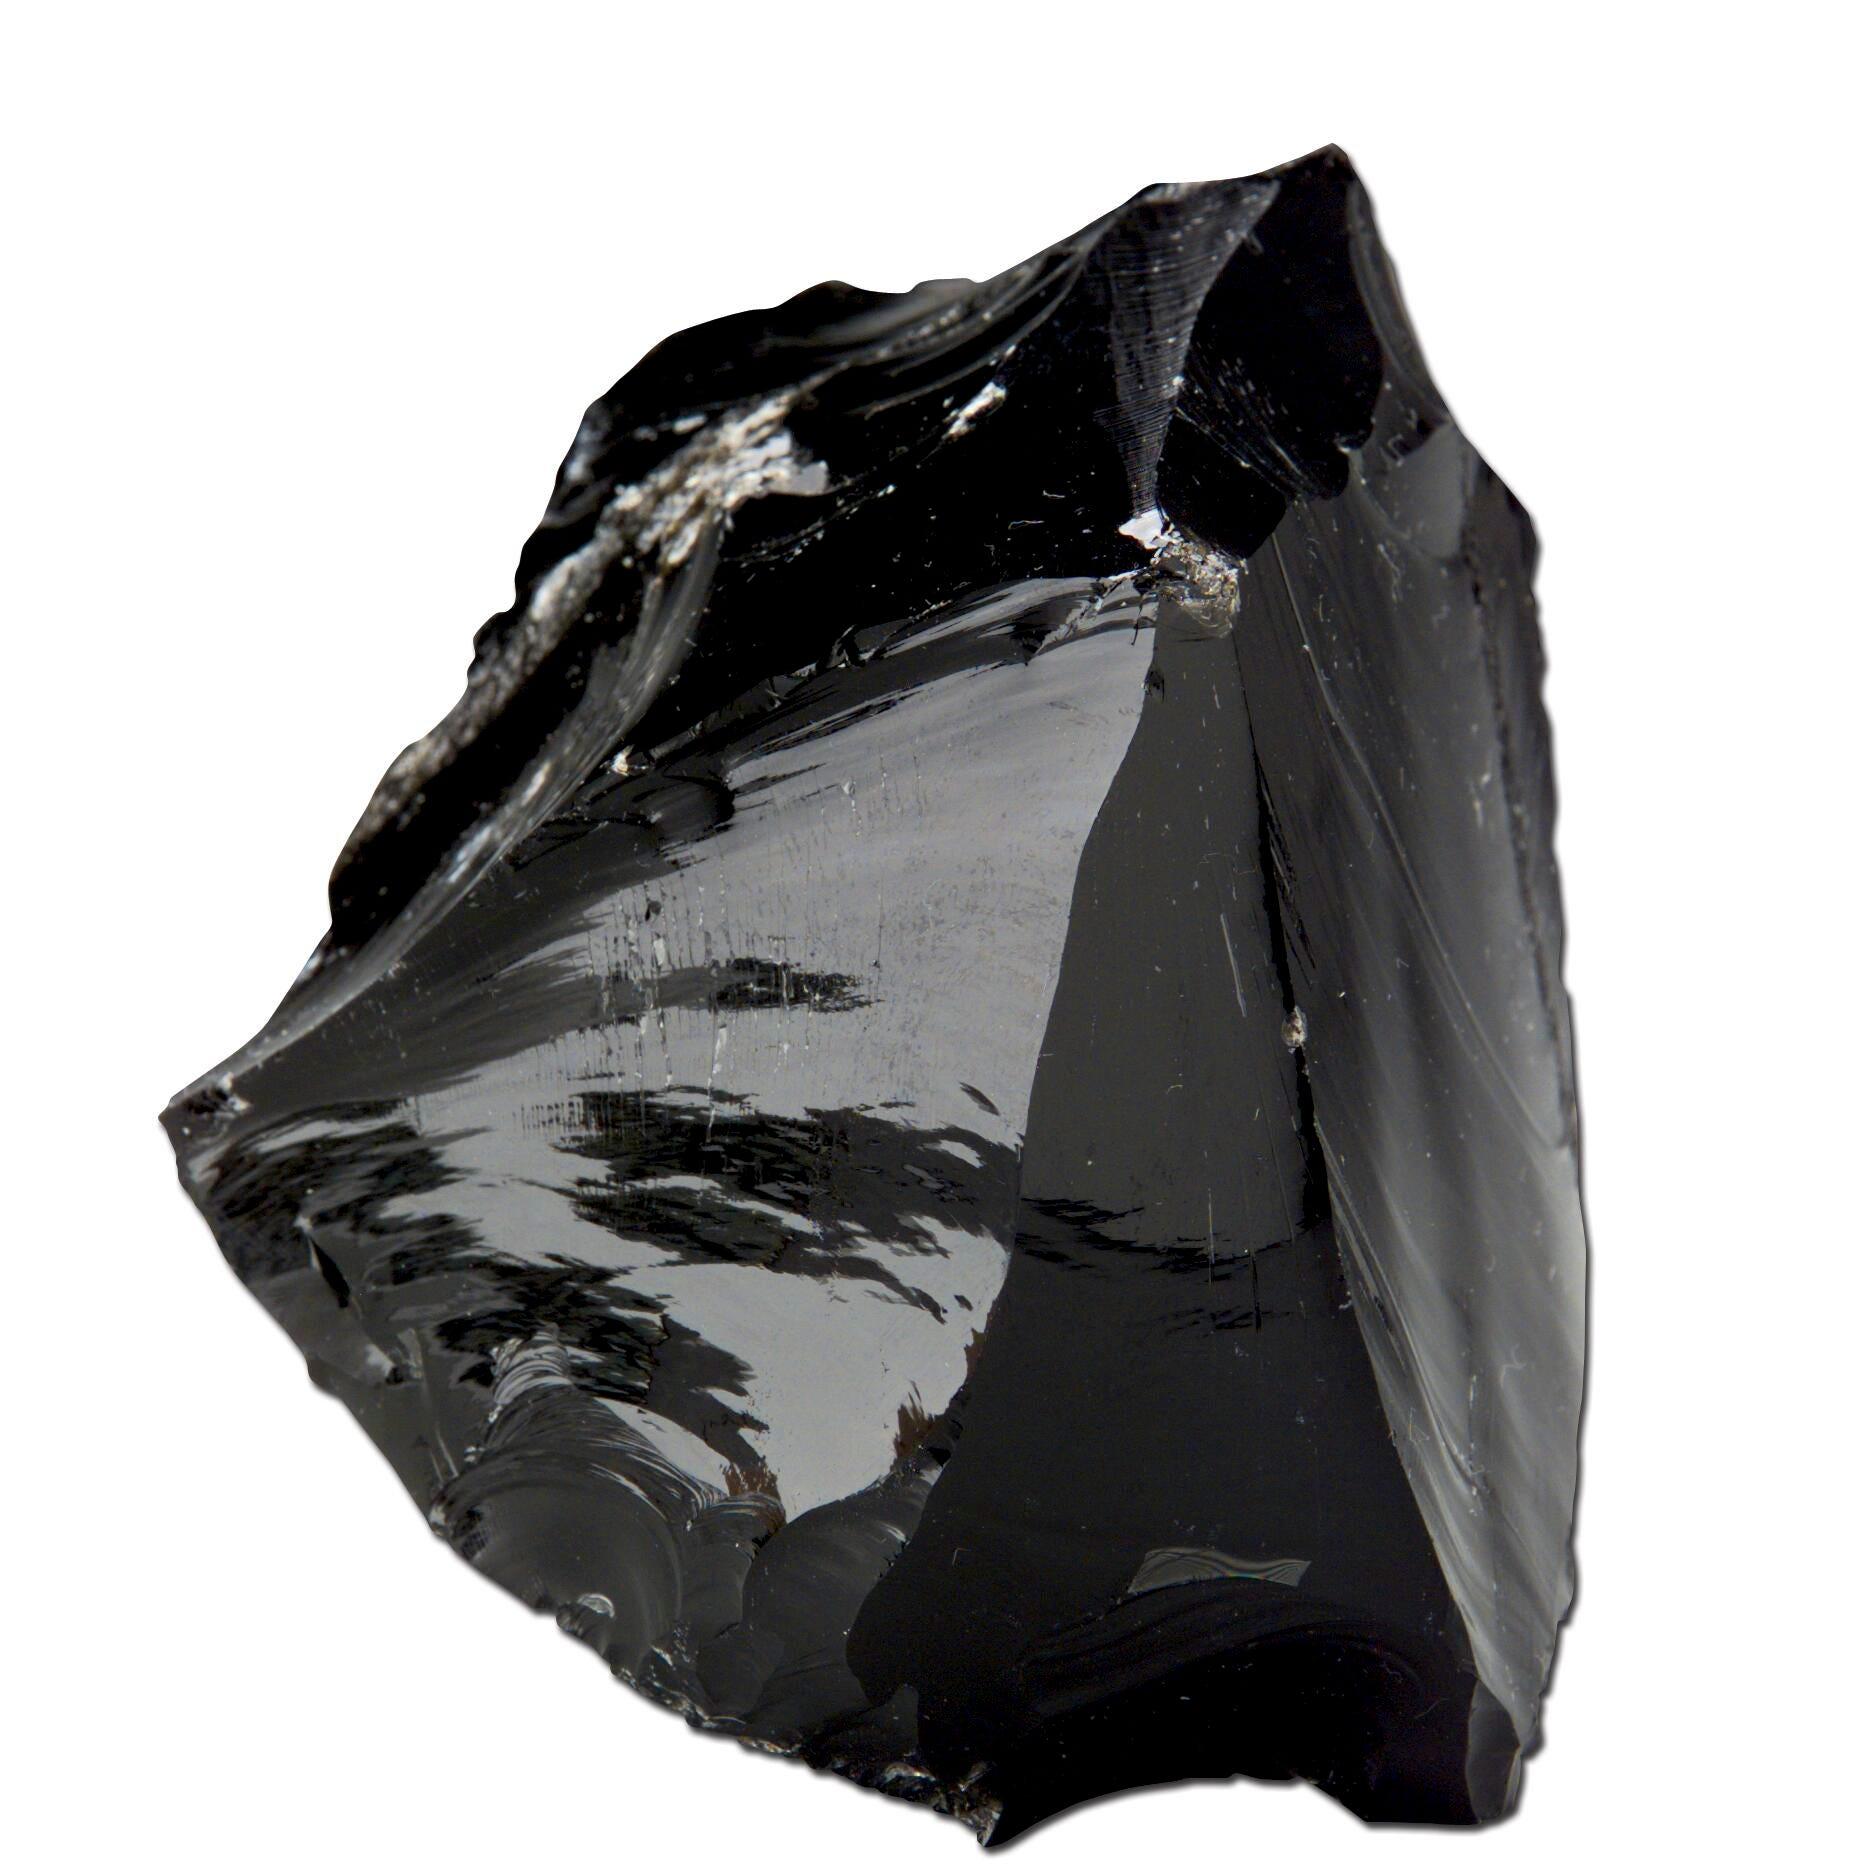Obsidian: (153, 143, 1601, 1850)
